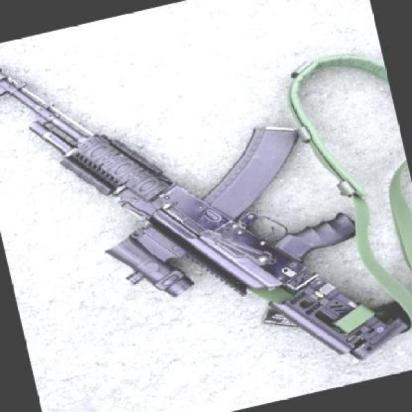Gun: (0, 71, 407, 353)
